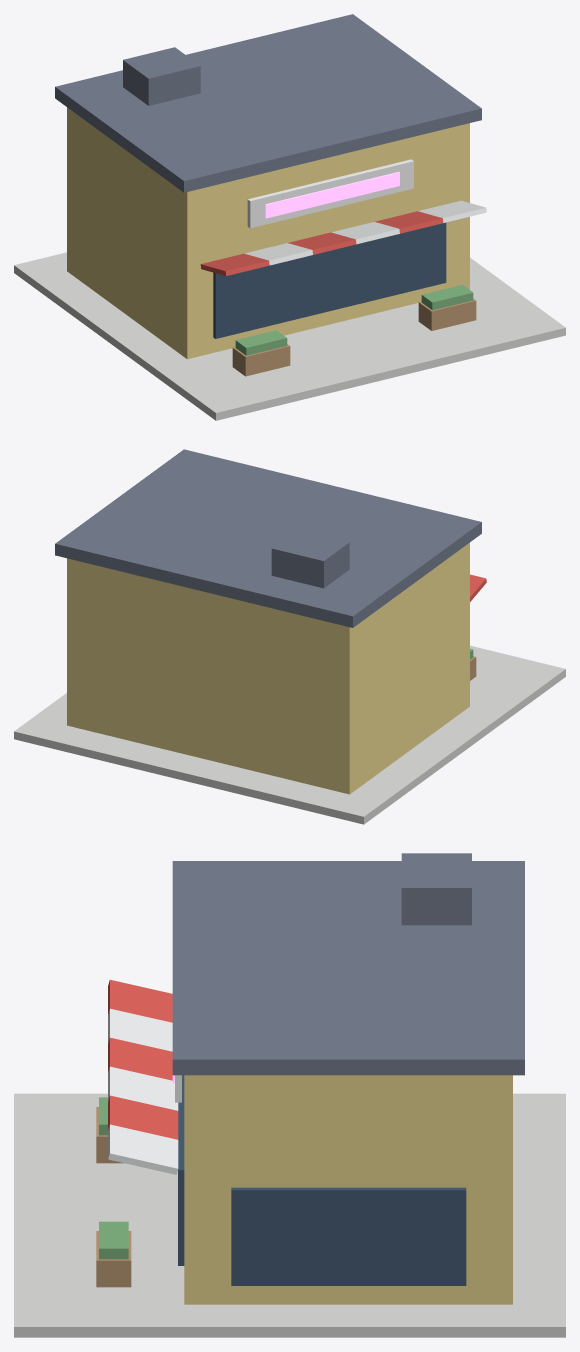
The model's file is corner_store.glb.
The picture shows the model from 3 angles, top to bottom: view 1: azimuth 30°, elevation 25°; view 2: azimuth 150°, elevation 25°; view 3: azimuth 270°, elevation 25°; orthographic projection. The views are drawn at different scales.
Parts seen in each view (by area): view 1: corner_store_body; view 2: corner_store_body; view 3: corner_store_body.
Boxes of the visible parts, x1=… form: corner_store_body: x1=14, y1=14, x2=565, y2=420; corner_store_body: x1=14, y1=449, x2=565, y2=824; corner_store_body: x1=14, y1=853, x2=565, y2=1337.
Size of the model in its own units: 0.94 by 0.565 by 0.94.
